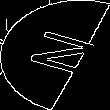N_E: (11, 27, 99, 83)
